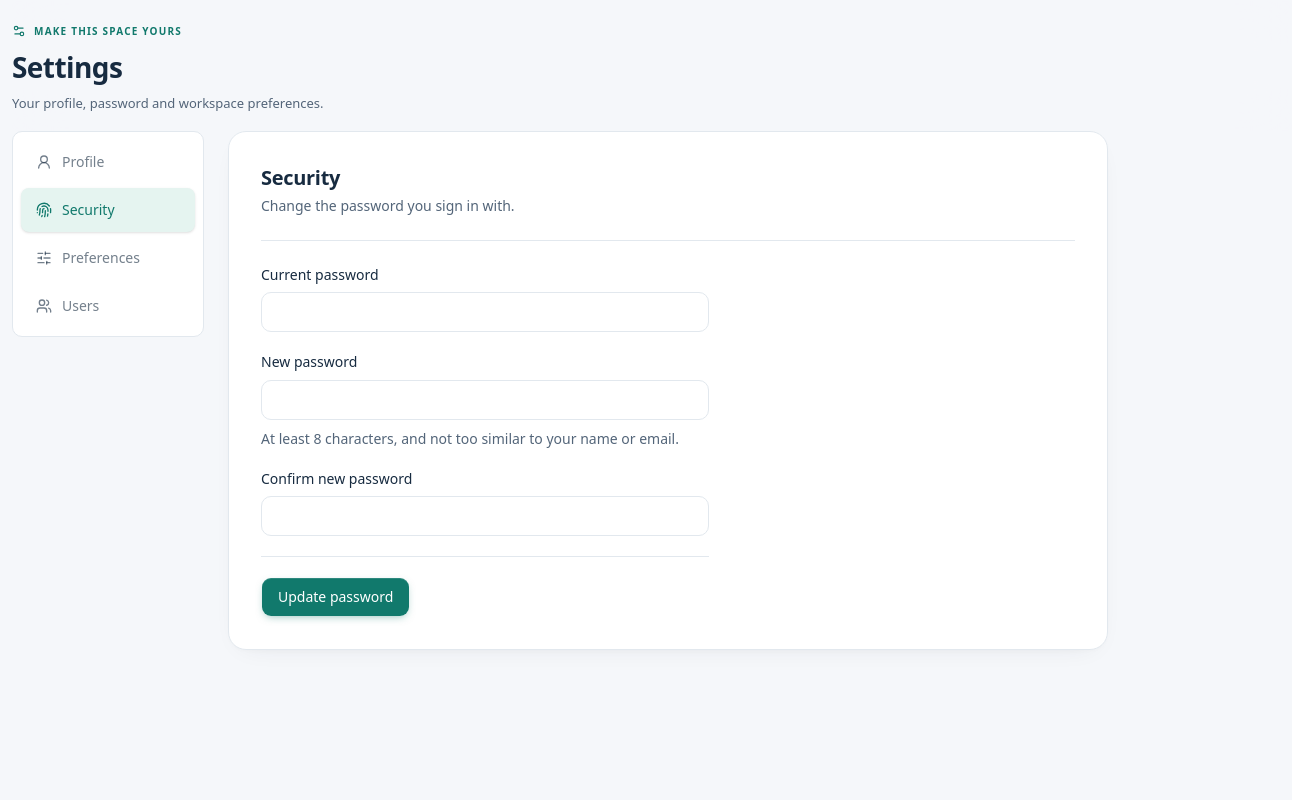
Test: SettingsPage › validates the change password form and maps a wrong current password
The image size is (1292, 800).
Type "old-pass-1" into the password field labelled "Current password" at [485, 312], box [261, 292, 709, 332]
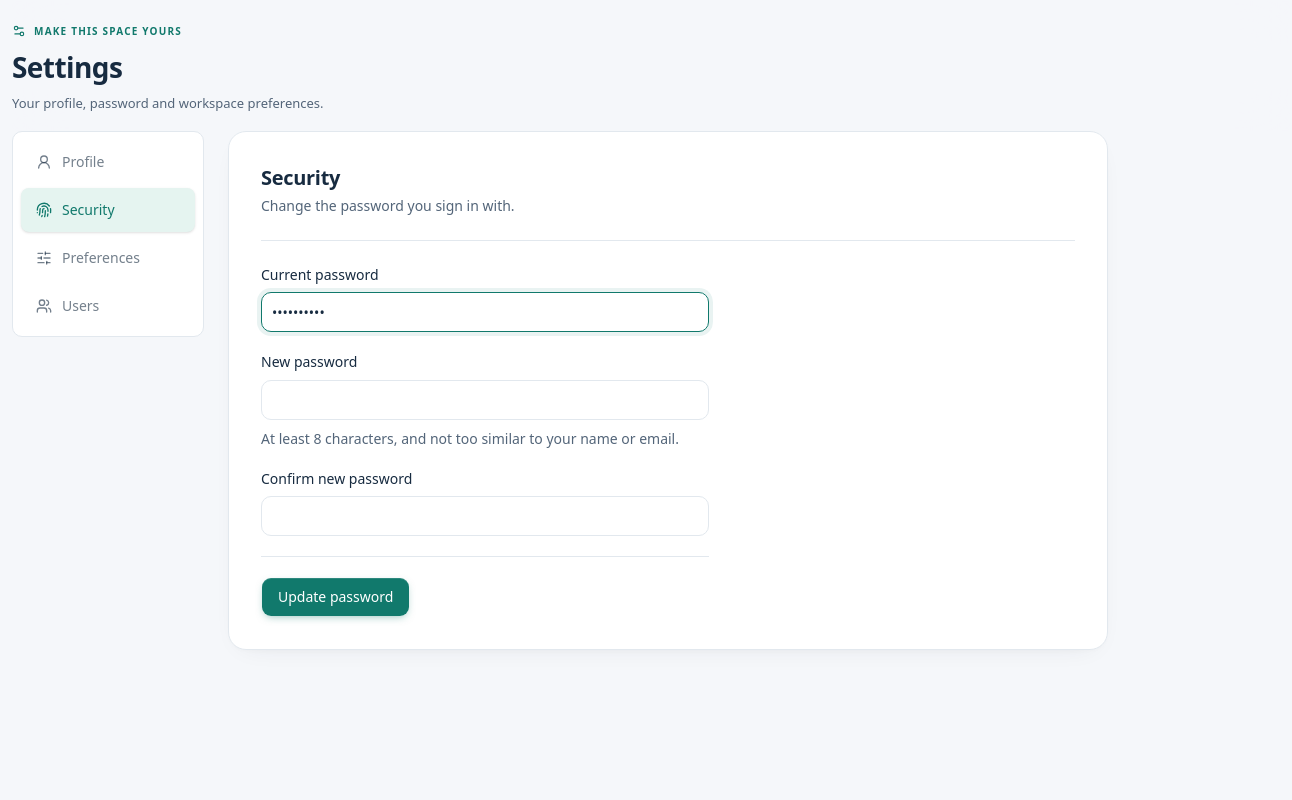
Type "new-pass-123" into the password field labelled "New password" at [485, 400], box [261, 380, 709, 420]
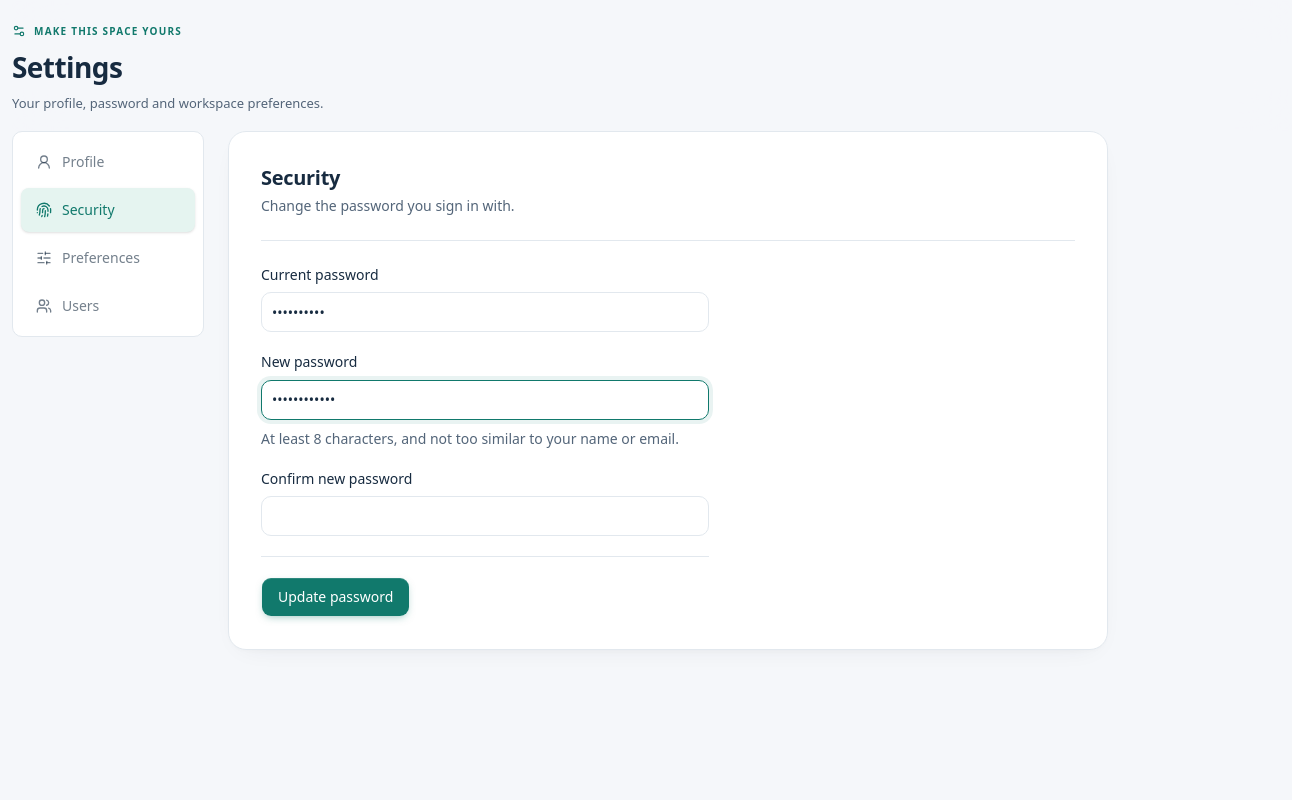
Type "different" into the password field labelled "Confirm new password" at [485, 516], box [261, 496, 709, 536]
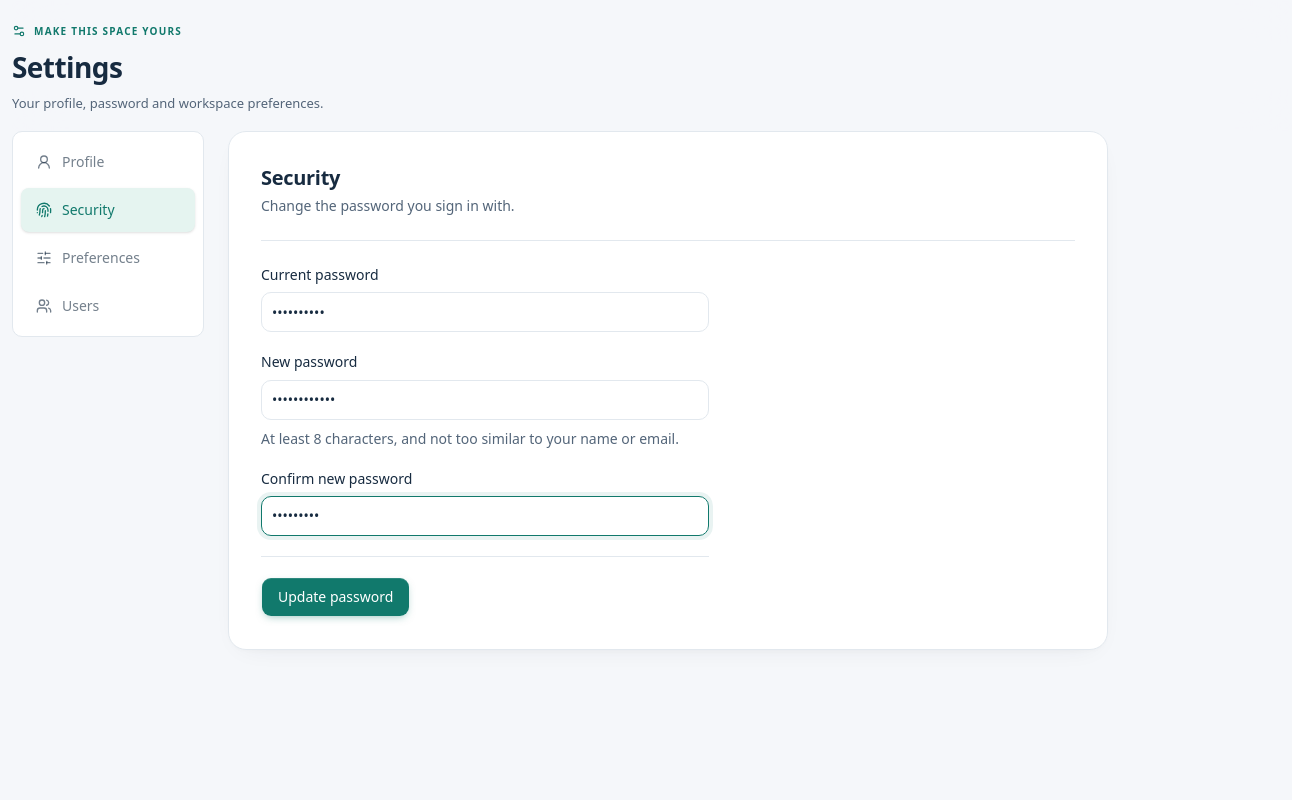
Click the button "Update password" at [336, 597], box [261, 577, 410, 617]
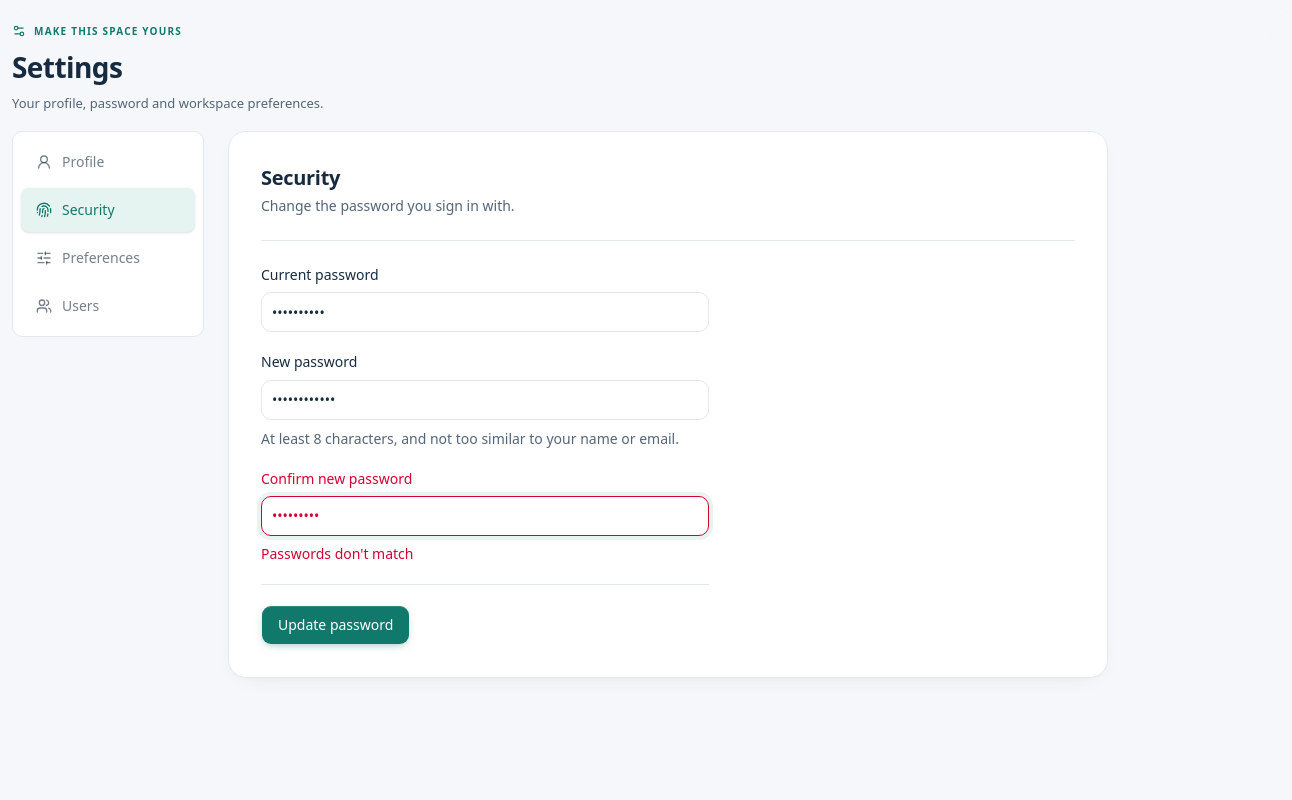
Now the text "Passwords don't match" is shown, box [261, 544, 414, 563]
Type "new-pass-123" into the password field labelled "Confirm new password" at [485, 516], box [261, 496, 709, 536]
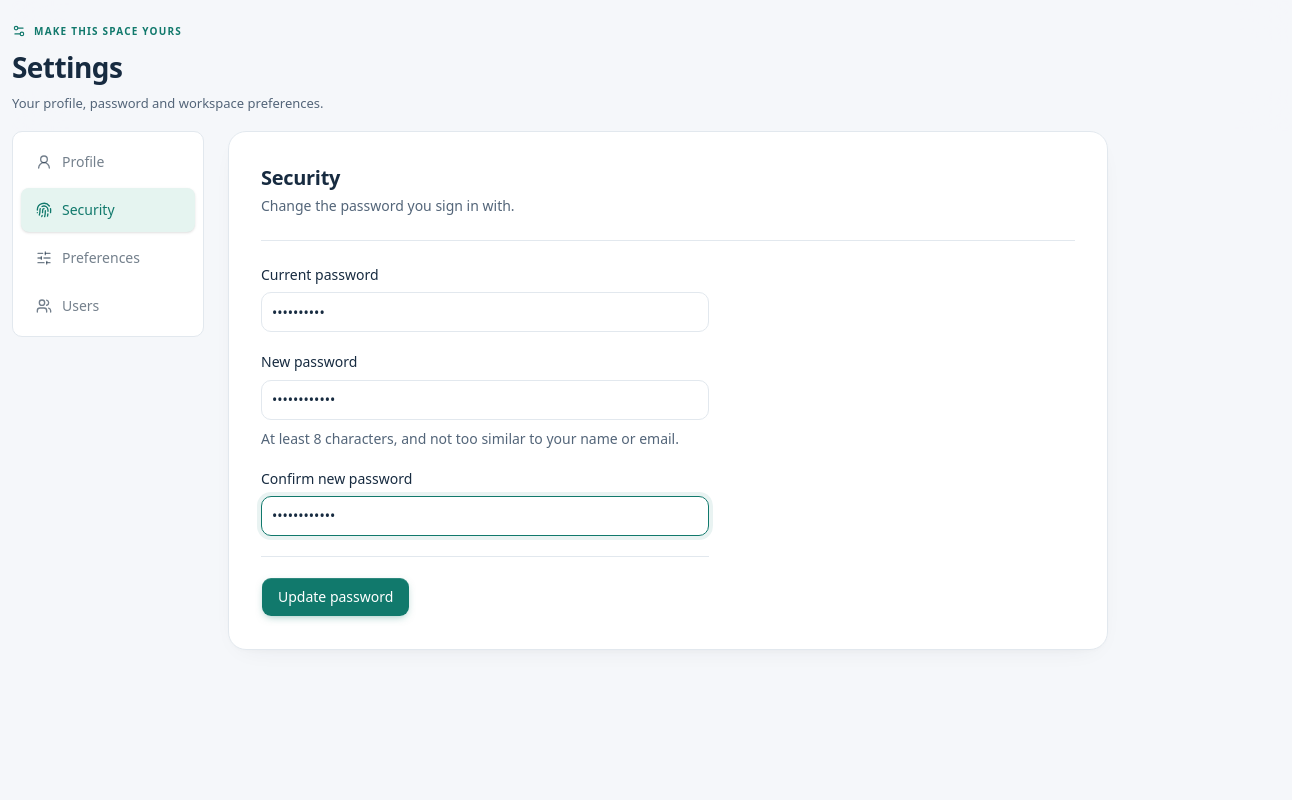
Click the button "Update password" at [336, 597], box [261, 577, 410, 617]
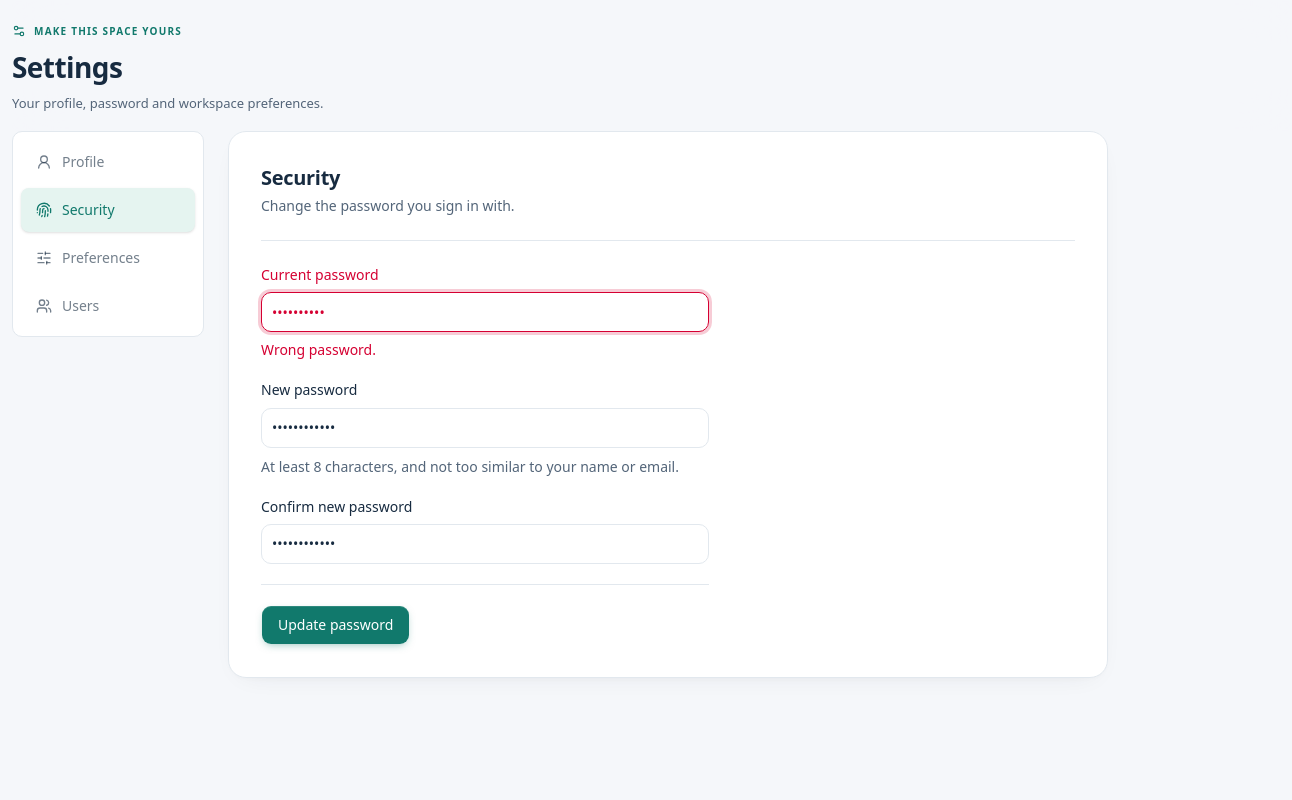
Now the text "Wrong password." is shown, box [261, 340, 376, 359]
